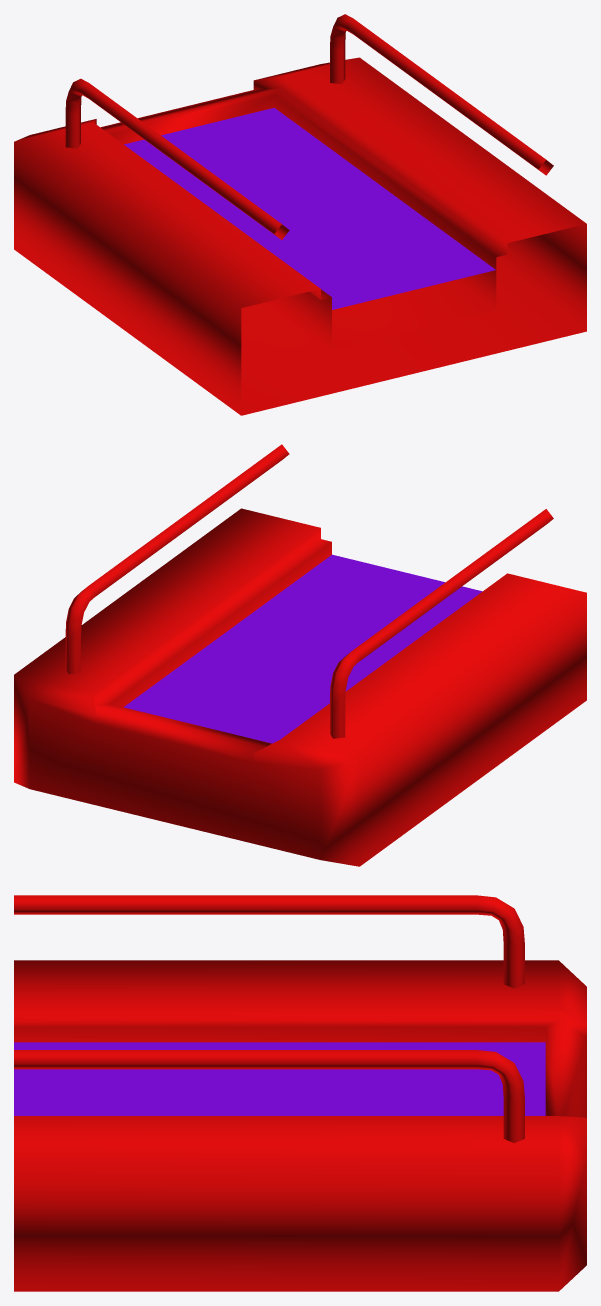
File: EndPiece.fbx
The picture shows the model from 3 angles, top to bottom: view 1: azimuth 30°, elevation 25°; view 2: azimuth 150°, elevation 25°; view 3: azimuth 270°, elevation 25°; orthographic projection. The views are drawn at different scales.
Parts seen in each view (by area): view 1: EndPiece_geo; view 2: EndPiece_geo; view 3: EndPiece_geo.
Part boxes in pixels (<box>): EndPiece_geo: <box>14,14,586,415</box>; EndPiece_geo: <box>14,444,586,866</box>; EndPiece_geo: <box>14,895,586,1291</box>.
Size of the model in its own units: 171 by 85.93 by 205.
